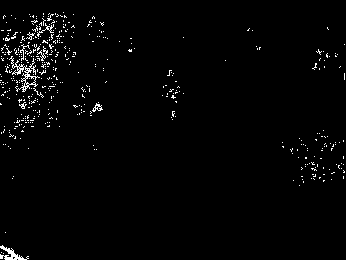person: (161, 68, 183, 122)
